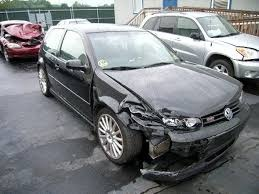Broken-glass: (153, 114, 193, 129)
Dent: (96, 88, 178, 170)
